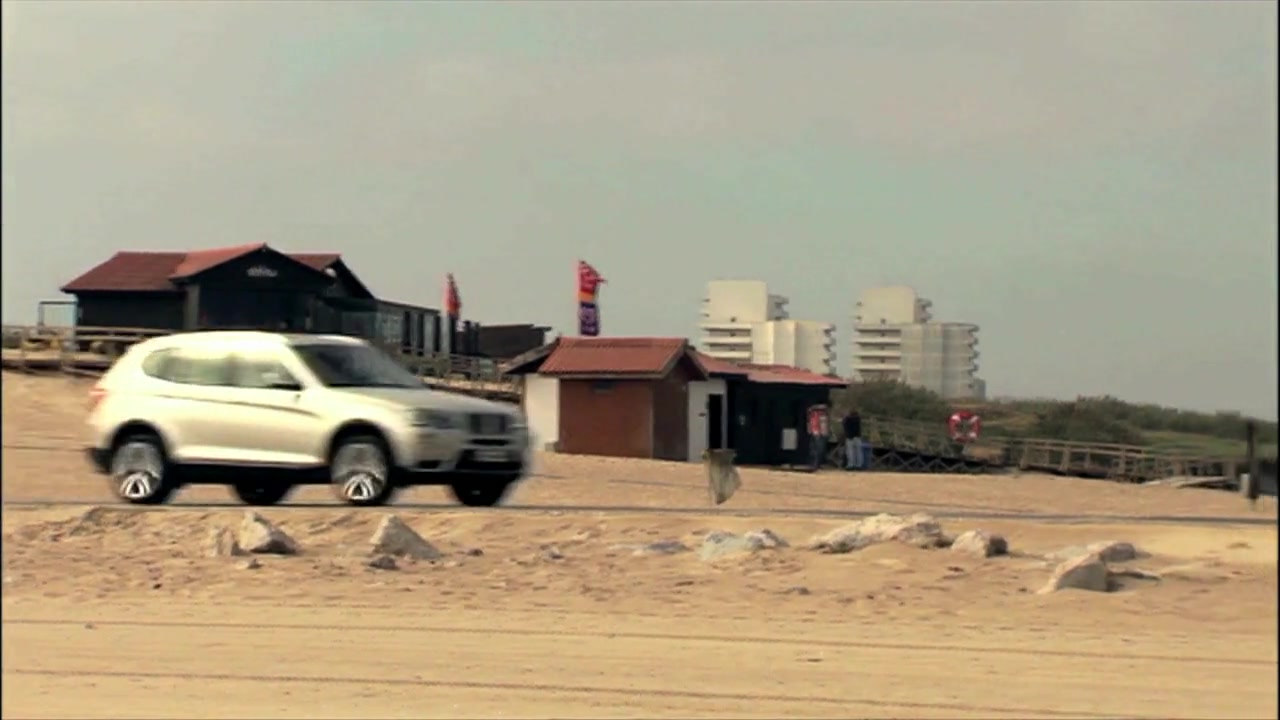car: (77, 330, 522, 505)
